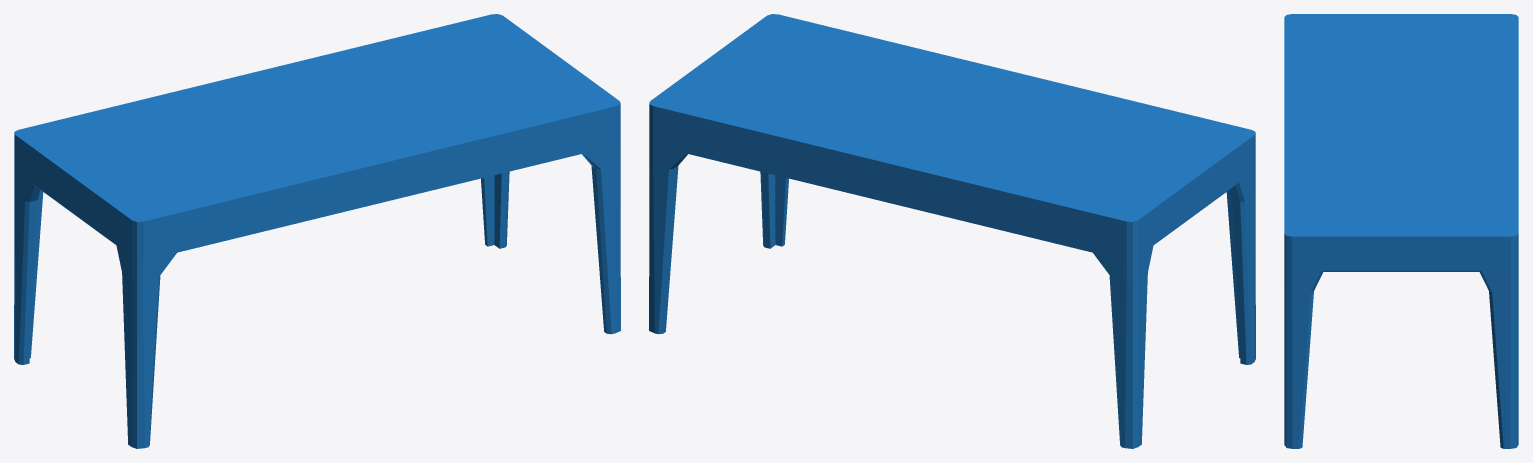
Rendered from table.fbx.
3 views of the same model, side by side, from view 1: azimuth 30°, elevation 25°; view 2: azimuth 150°, elevation 25°; view 3: azimuth 270°, elevation 25° (orthographic). The views are drawn at different scales.
Visible parts, largest first — view 1: mesh_RectTable.001; view 2: mesh_RectTable.001; view 3: mesh_RectTable.001.
Boxes of the visible parts, box(x1,y1,x2,y2) form: mesh_RectTable.001: box(14, 14, 620, 448); mesh_RectTable.001: box(649, 14, 1255, 448); mesh_RectTable.001: box(1284, 14, 1518, 448).
Bounding box in the file's own units: 180 × 80 × 80.
